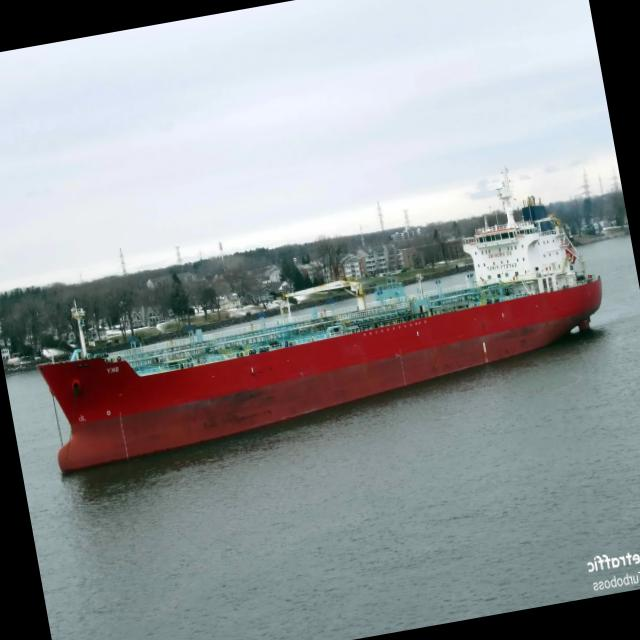Tanker: (37, 172, 601, 471)
